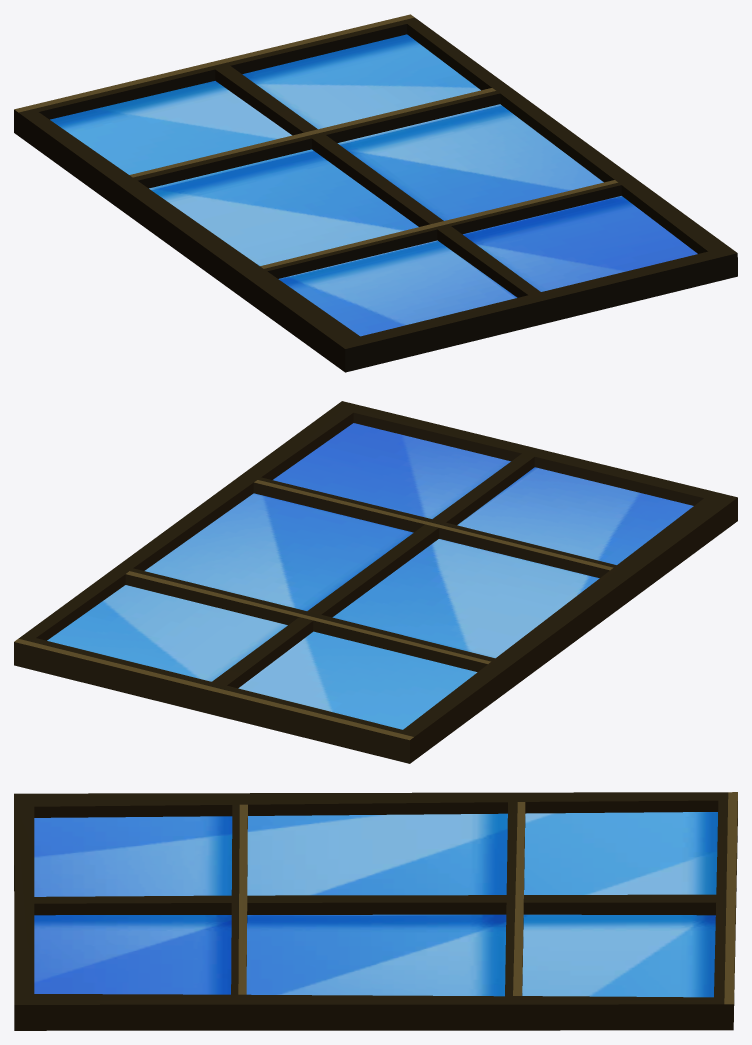
File: OfficeWindow.fbx
3 views of the same model, one above another, from view 1: azimuth 30°, elevation 25°; view 2: azimuth 150°, elevation 25°; view 3: azimuth 270°, elevation 25° (orthographic). The views are drawn at different scales.
Visible parts, largest first — view 1: OfficeWindow; view 2: OfficeWindow; view 3: OfficeWindow.
Boxes of the visible parts, x1=… form: OfficeWindow: x1=14, y1=14, x2=737, y2=372; OfficeWindow: x1=14, y1=401, x2=737, y2=763; OfficeWindow: x1=14, y1=792, x2=737, y2=1030.
Size of the model in its own units: 163 by 9.55 by 235.
